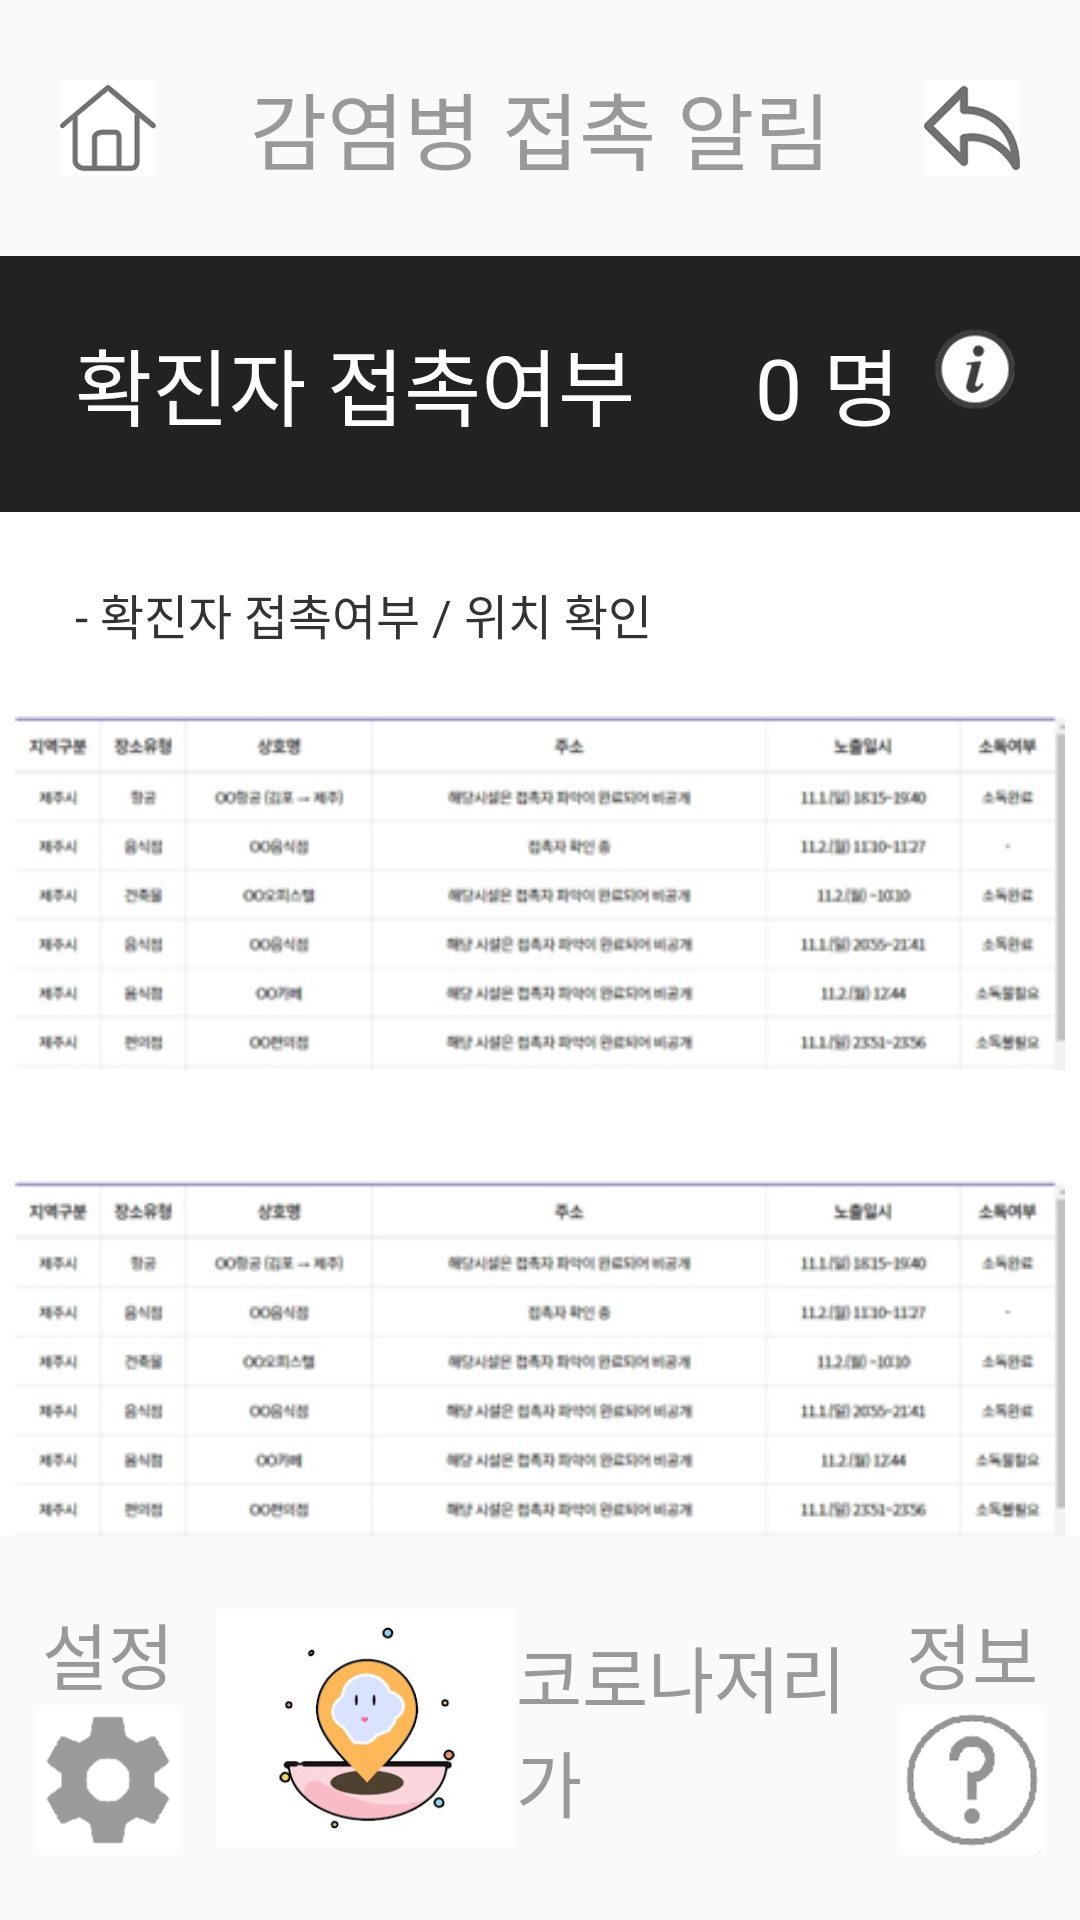

Where icons sit on this 1080x1920 app screen, as [x1,y1,x2,y2]:
back: [924,86,1020,170]
home: [60,85,156,171]
information: [935,330,1015,409]
question: [906,1714,1038,1846]
setting: [46,1717,170,1843]
